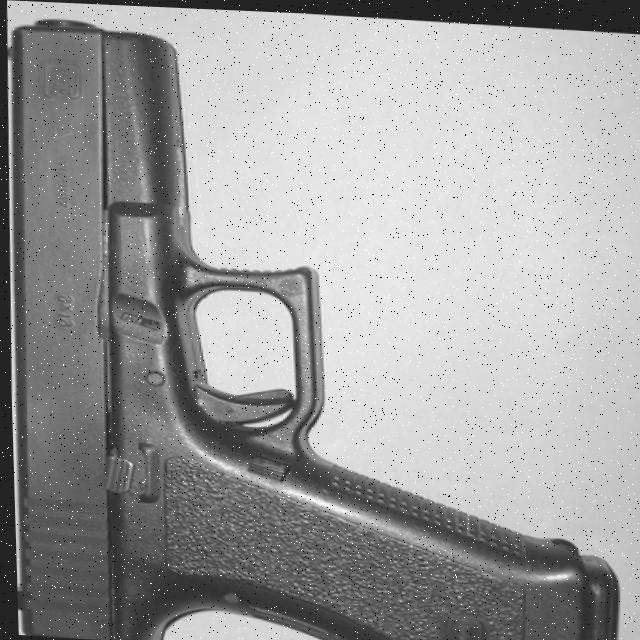pistol: (0, 13, 622, 640)
